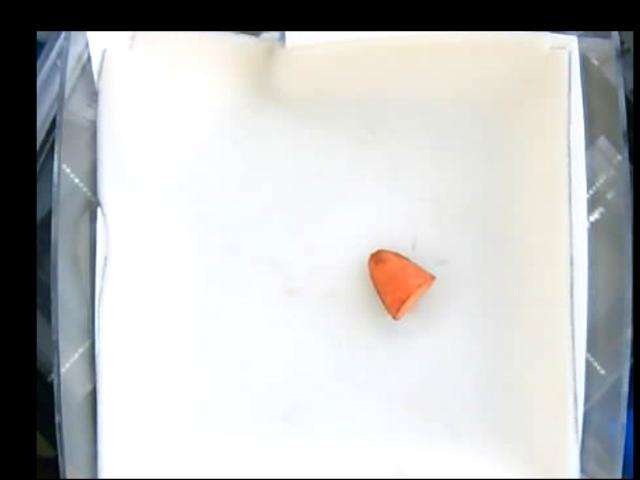Carrot: (367, 248, 437, 320)
